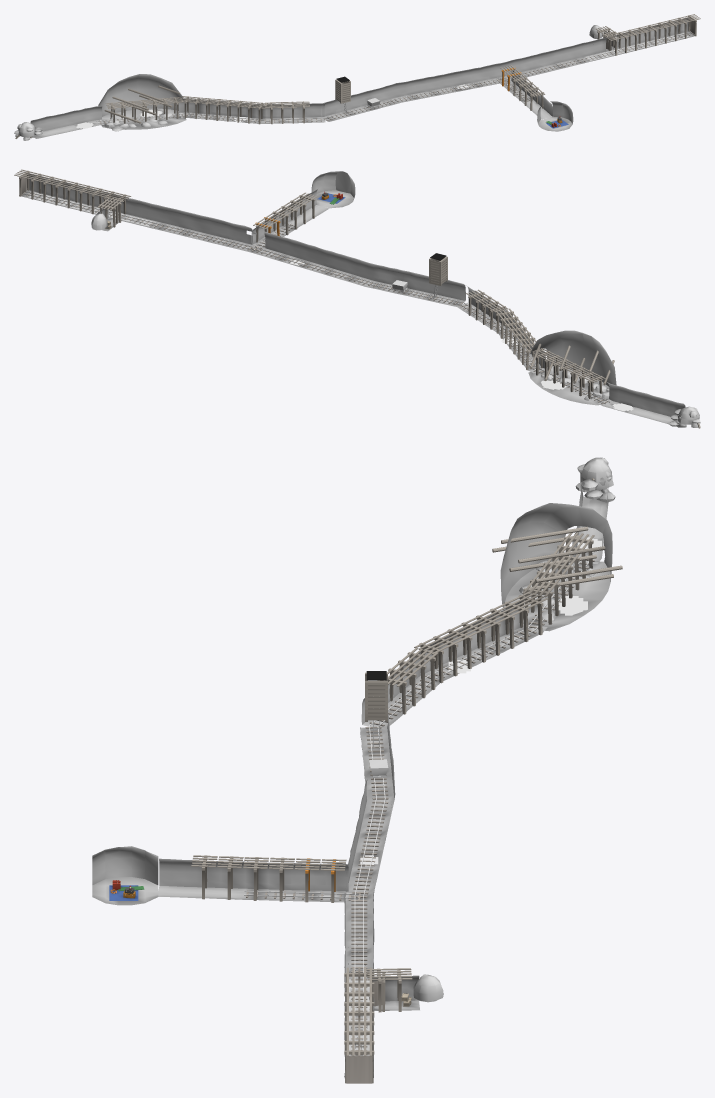
The model's file is ashford_mine_interior.glb.
3 views of the same model, one above another, from view 1: azimuth 30°, elevation 25°; view 2: azimuth 150°, elevation 25°; view 3: azimuth 270°, elevation 25° (orthographic). The views are drawn at different scales.
Parts seen in each view (by area): view 1: main; view 2: main; view 3: main.
Part boxes in pixels (bbox=[...]): main: bbox=[14, 14, 700, 140]; main: bbox=[14, 169, 700, 428]; main: bbox=[92, 457, 622, 1083].
Bounding box in the file's own units: 100 × 6.6 × 36.95.
